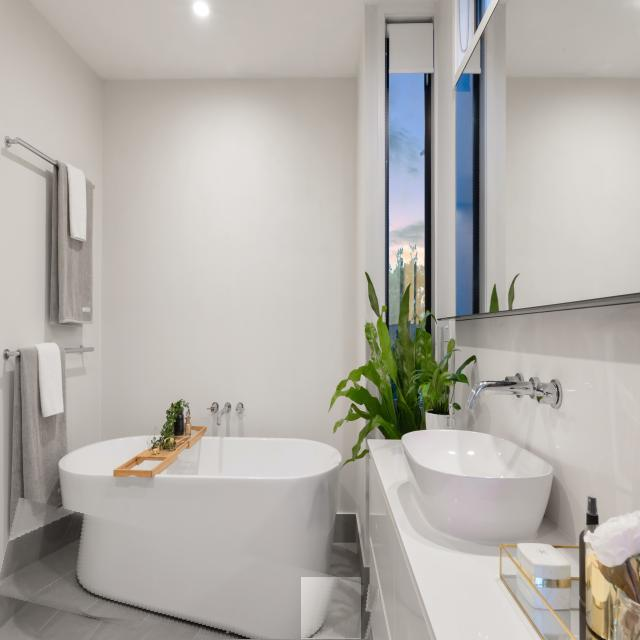floor: (0, 537, 255, 640), (304, 577, 361, 639)
